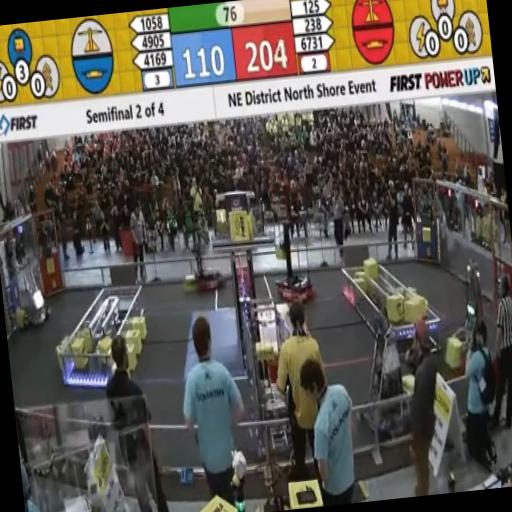robot: (240, 294, 304, 456), (345, 307, 417, 439), (432, 254, 496, 384), (268, 208, 318, 310), (6, 246, 56, 336), (176, 223, 230, 298)
